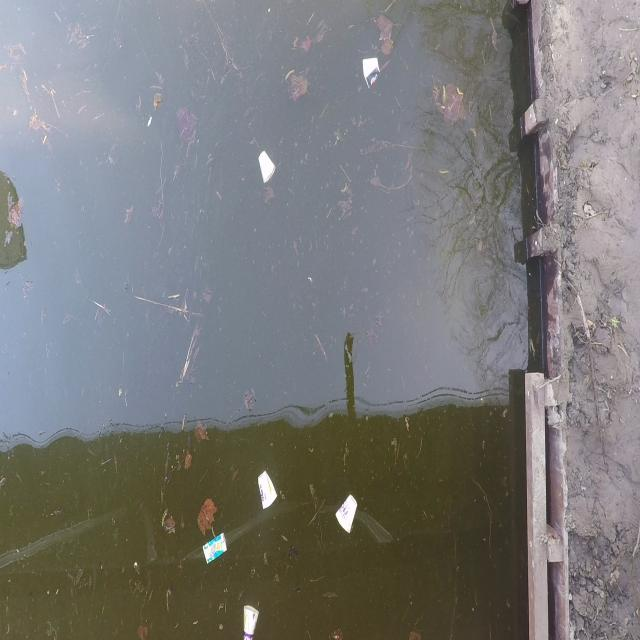Non plastique: (332, 493, 358, 541), (199, 529, 230, 569), (253, 469, 279, 515), (252, 144, 276, 188), (240, 595, 262, 640), (359, 53, 383, 90)
